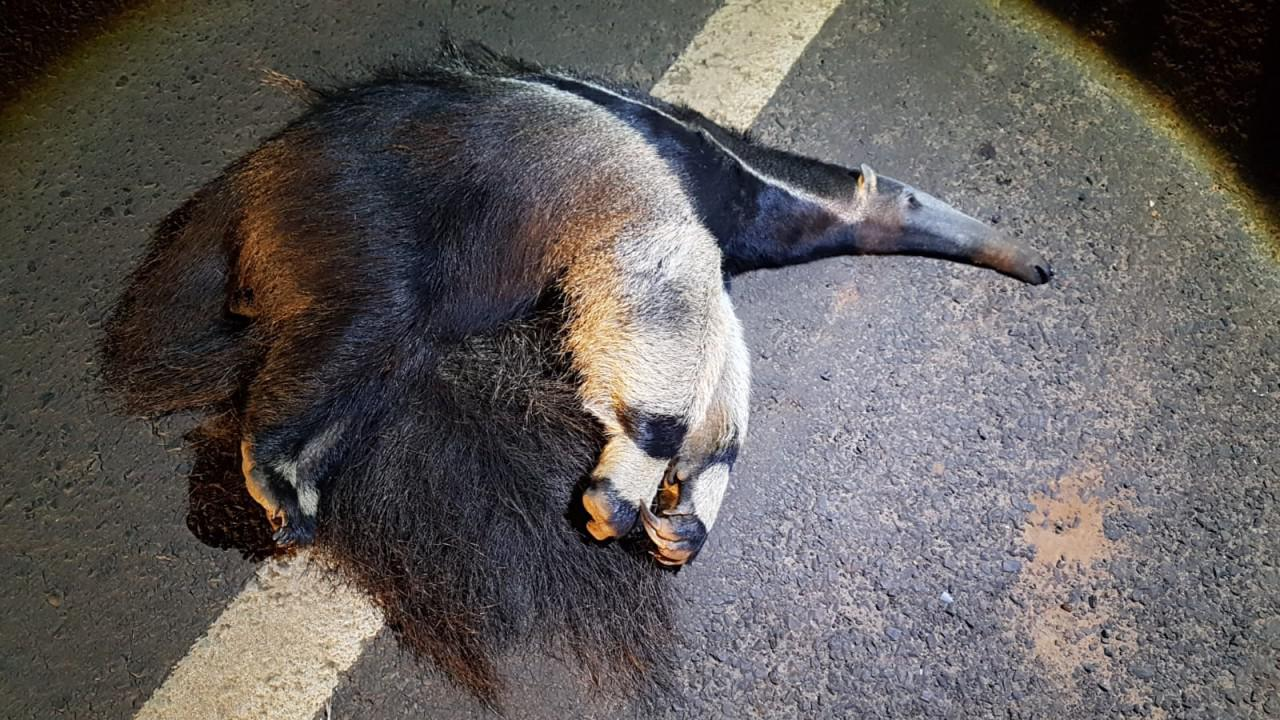TamanduaBandeira: (86, 42, 1079, 574)
